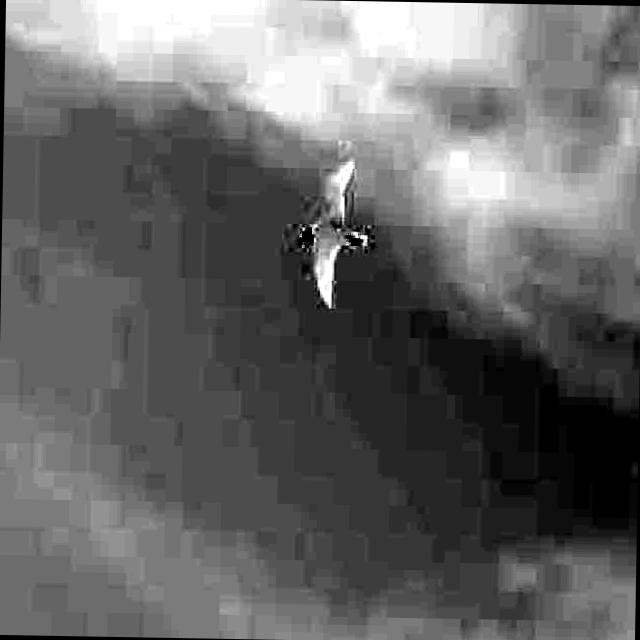bird: (296, 157, 370, 306)
